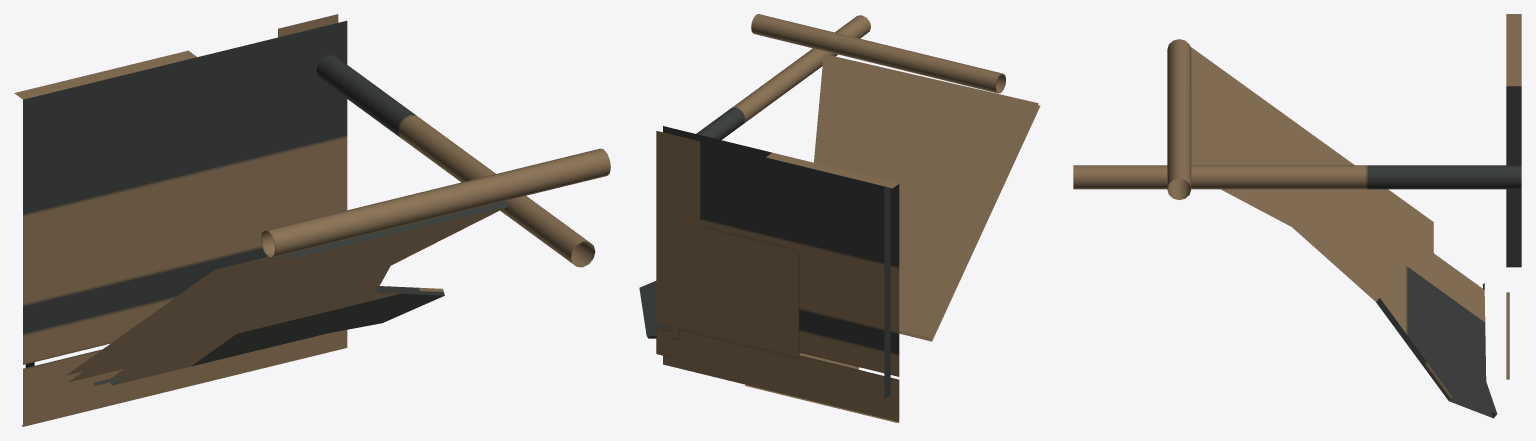
File: section-5.obj
The picture shows the model from 3 angles, left to right: view 1: azimuth 30°, elevation 25°; view 2: azimuth 150°, elevation 25°; view 3: azimuth 270°, elevation 25°; orthographic projection. The views are drawn at different scales.
Bounding box in the file's own units: 1.24 × 1 × 1.46.
